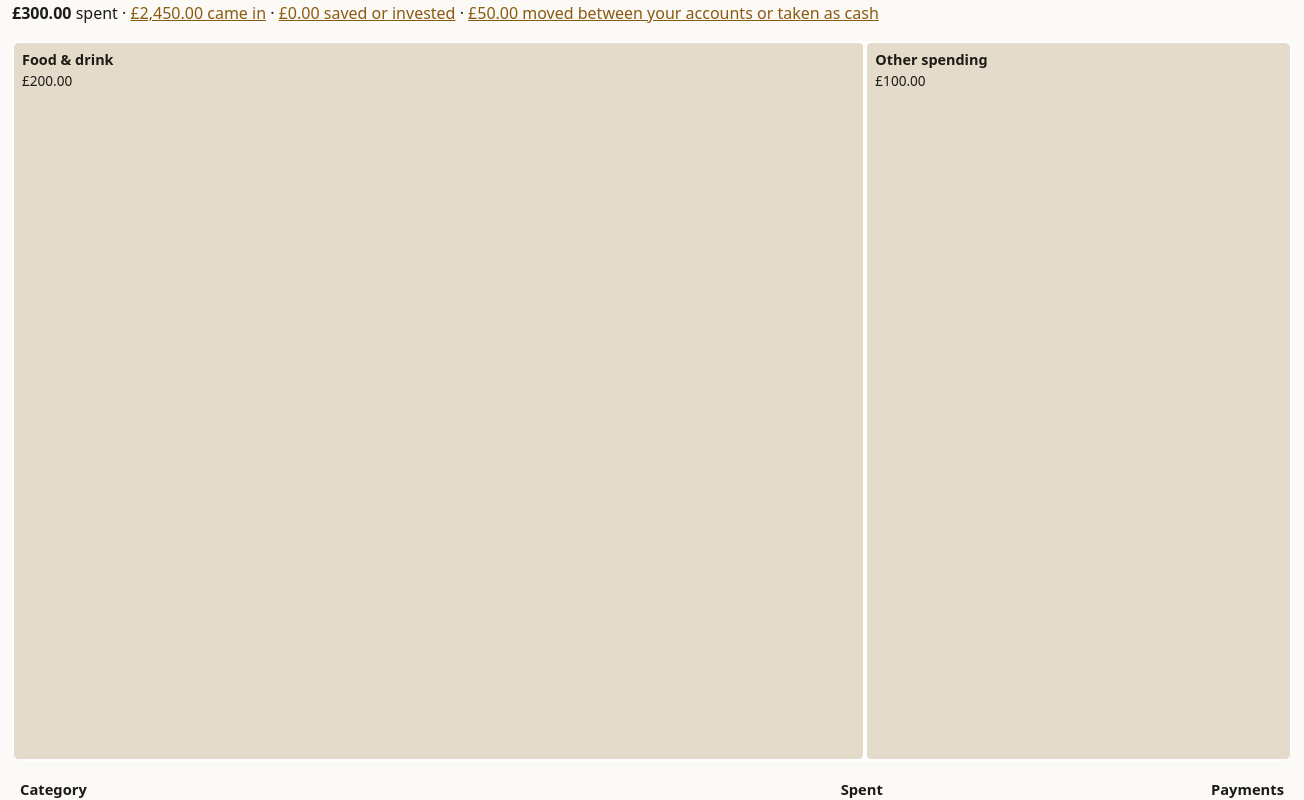
Scenario: drills from the treemap to a transaction, recategorises it and makes a rule
(page scrolled)
Click the button with aria-label "Other spending, £100.00, 33%" at (1079, 401), box [865, 41, 1292, 761]
(page scrolled)
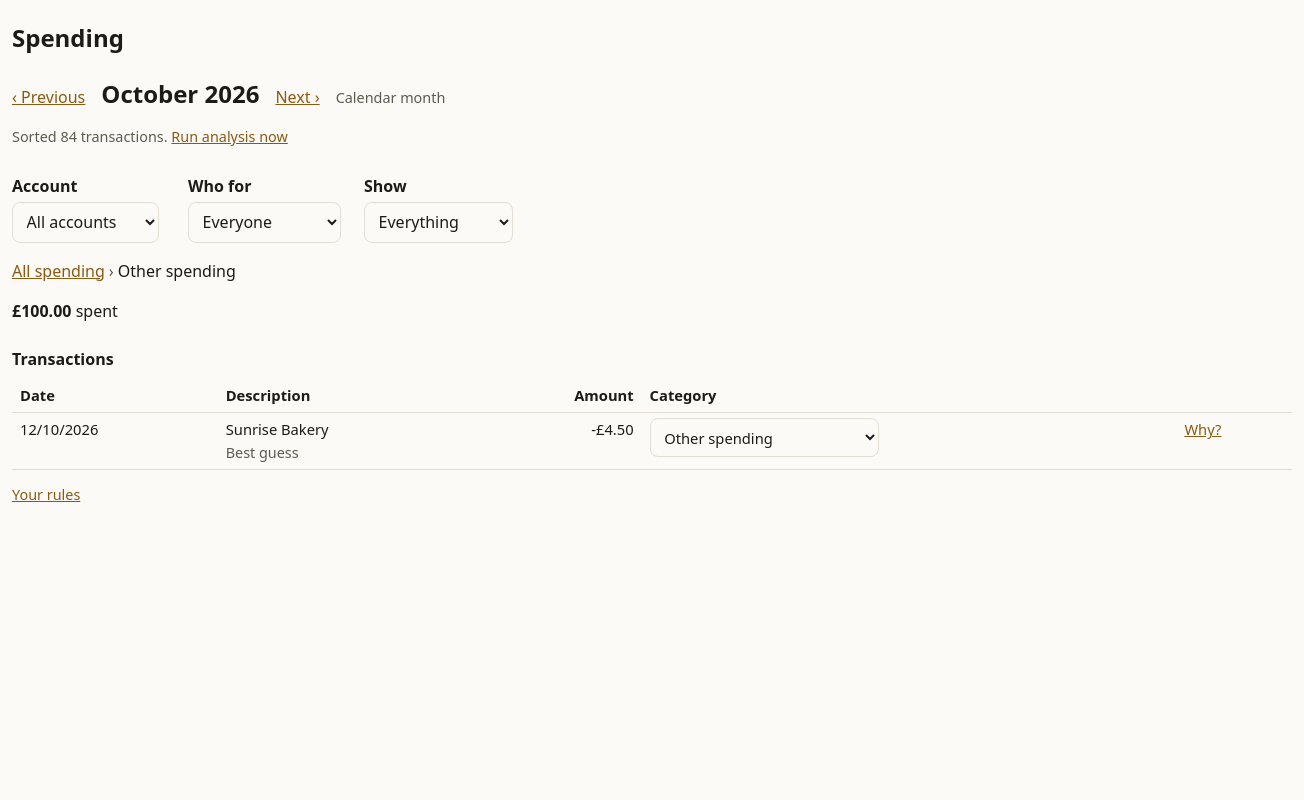
Expected: the text "Best guess" is shown, [226, 442, 299, 462]
Expected: the dropdown named "Category for Sunrise Bakery on 12/10/2026" is enabled
Select "Food & drink › Eating out" in the dropdown named "Category for Sunrise Bakery on 12/10/2026" at (764, 438), box [650, 418, 879, 457]
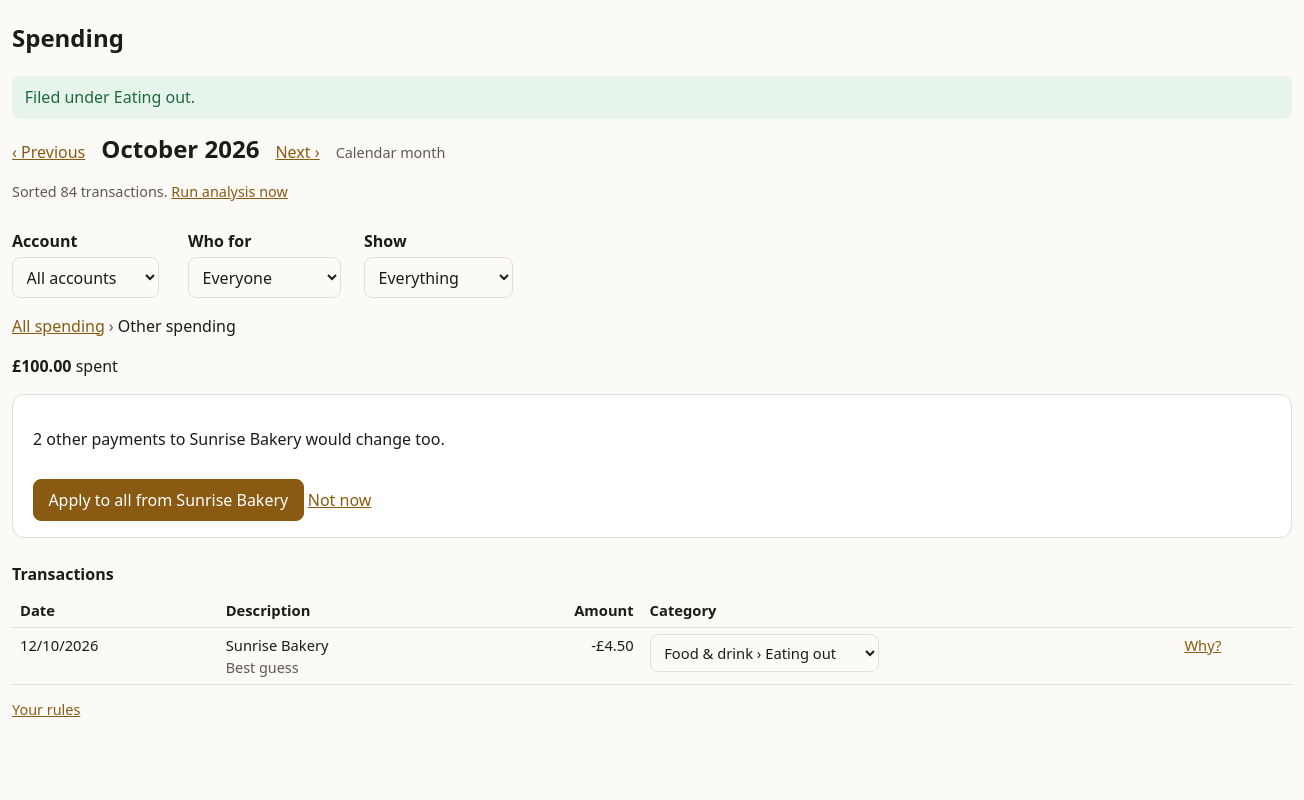
Expected: the text "2 other payments to Sunrise Bakery would change too." is shown, [33, 428, 445, 450]
Expected: the button "Apply to all from Sunrise Bakery" is enabled
Click the button "Apply to all from Sunrise Bakery" at (168, 500), box [33, 479, 304, 521]
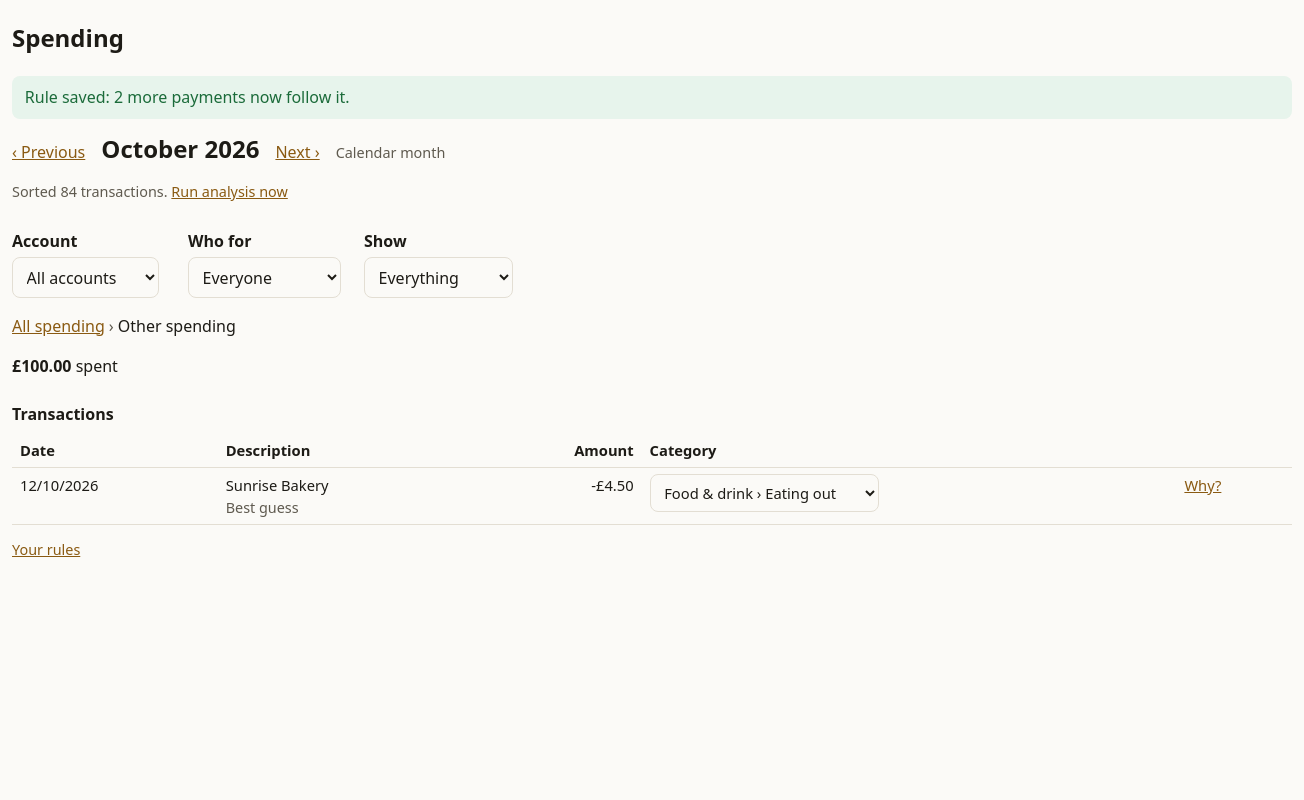
Expected: the text "Rule saved: 2 more payments now follow it." is shown, [12, 76, 1292, 119]
Click the button "All spending" at (58, 326), box [12, 314, 105, 338]
(page scrolled)
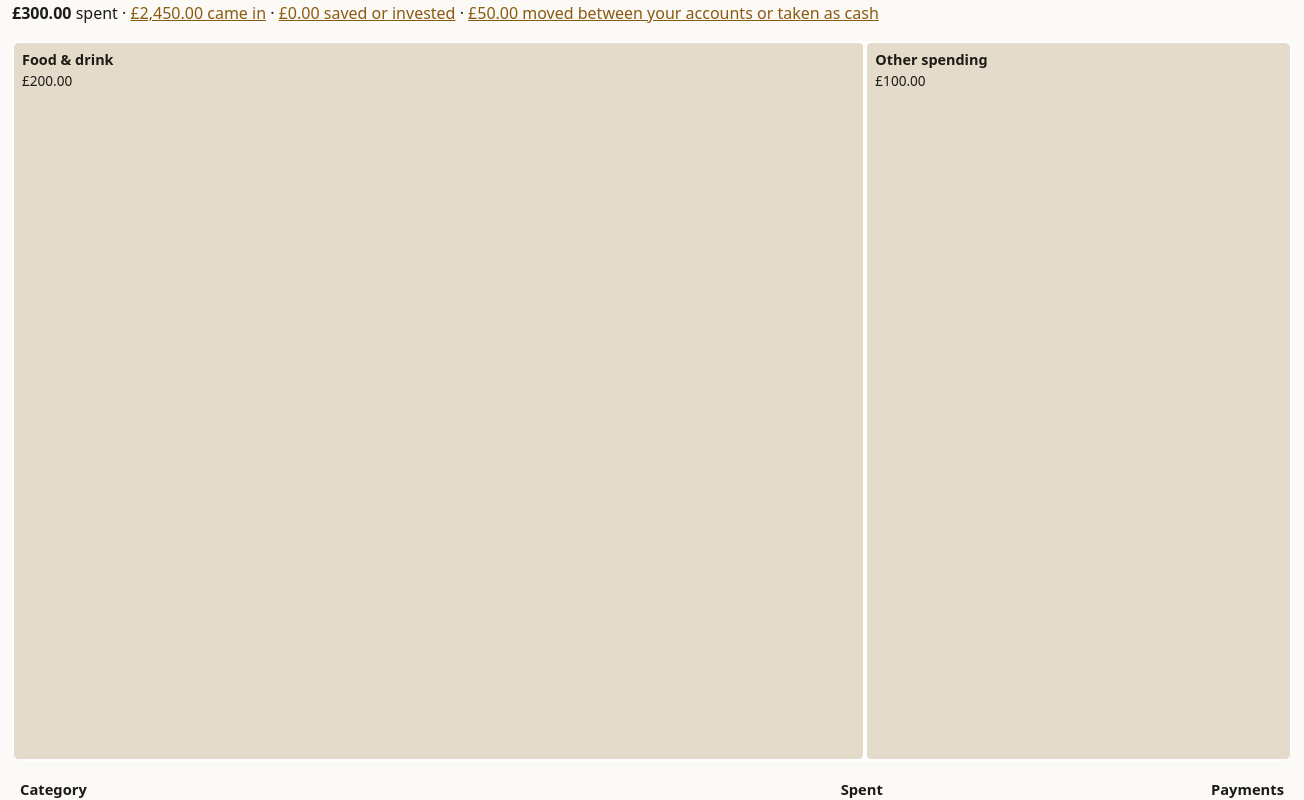
Expected: the element named "Spending by category" is shown
